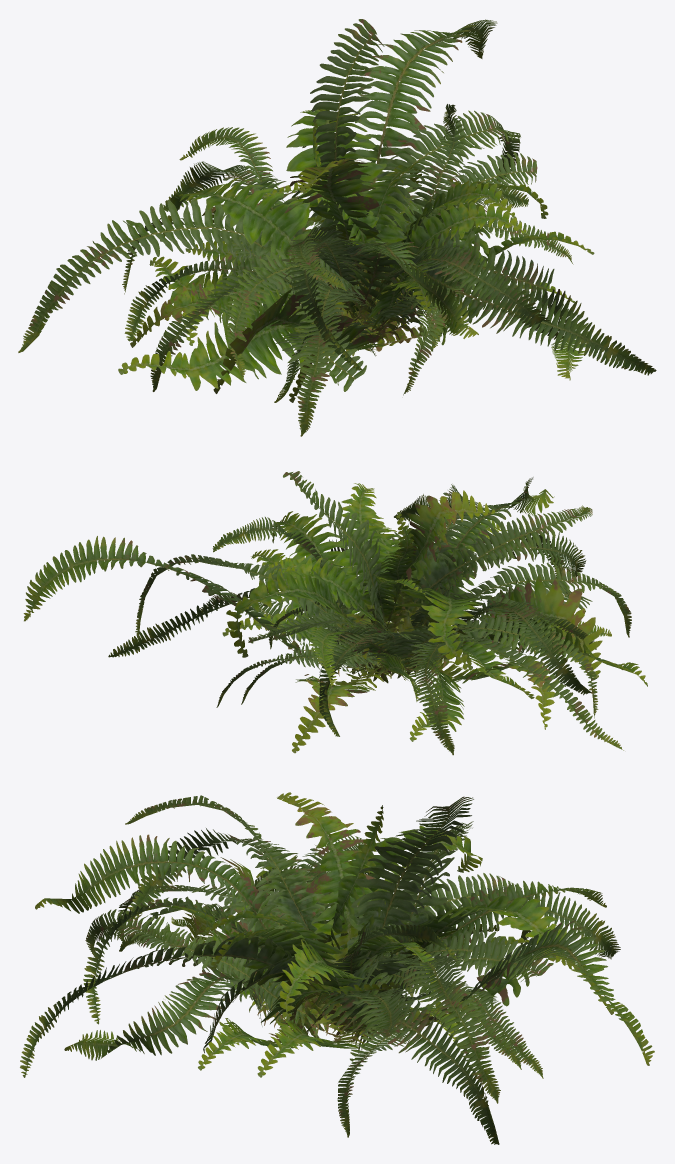
File: fern_02.fbx
The picture shows the model from 3 angles, top to bottom: view 1: azimuth 30°, elevation 25°; view 2: azimuth 150°, elevation 25°; view 3: azimuth 270°, elevation 25°; orthographic projection. The views are drawn at different scales.
Visible parts, largest first — view 1: fern_02_b, fern_02_c, fern_02_d, fern_02_a; view 2: fern_02_b, fern_02_c, fern_02_a, fern_02_d; view 3: fern_02_b, fern_02_c, fern_02_a, fern_02_d.
Boxes of the visible parts, x1,y1,x2,y2 form: fern_02_b: (18,19,656,436); fern_02_c: (118,119,588,402); fern_02_d: (149,178,574,402); fern_02_a: (182,104,554,351); fern_02_b: (23,471,631,753); fern_02_c: (108,484,647,755); fern_02_a: (212,517,534,707); fern_02_d: (266,519,611,741); fern_02_b: (20,792,654,1137); fern_02_c: (64,795,606,1144); fern_02_a: (119,865,553,1078); fern_02_d: (131,860,537,1070).
Size of the model in its own units: 0.9897 by 0.4277 by 0.8937.
Materials: 1 (1 with a texture image).
